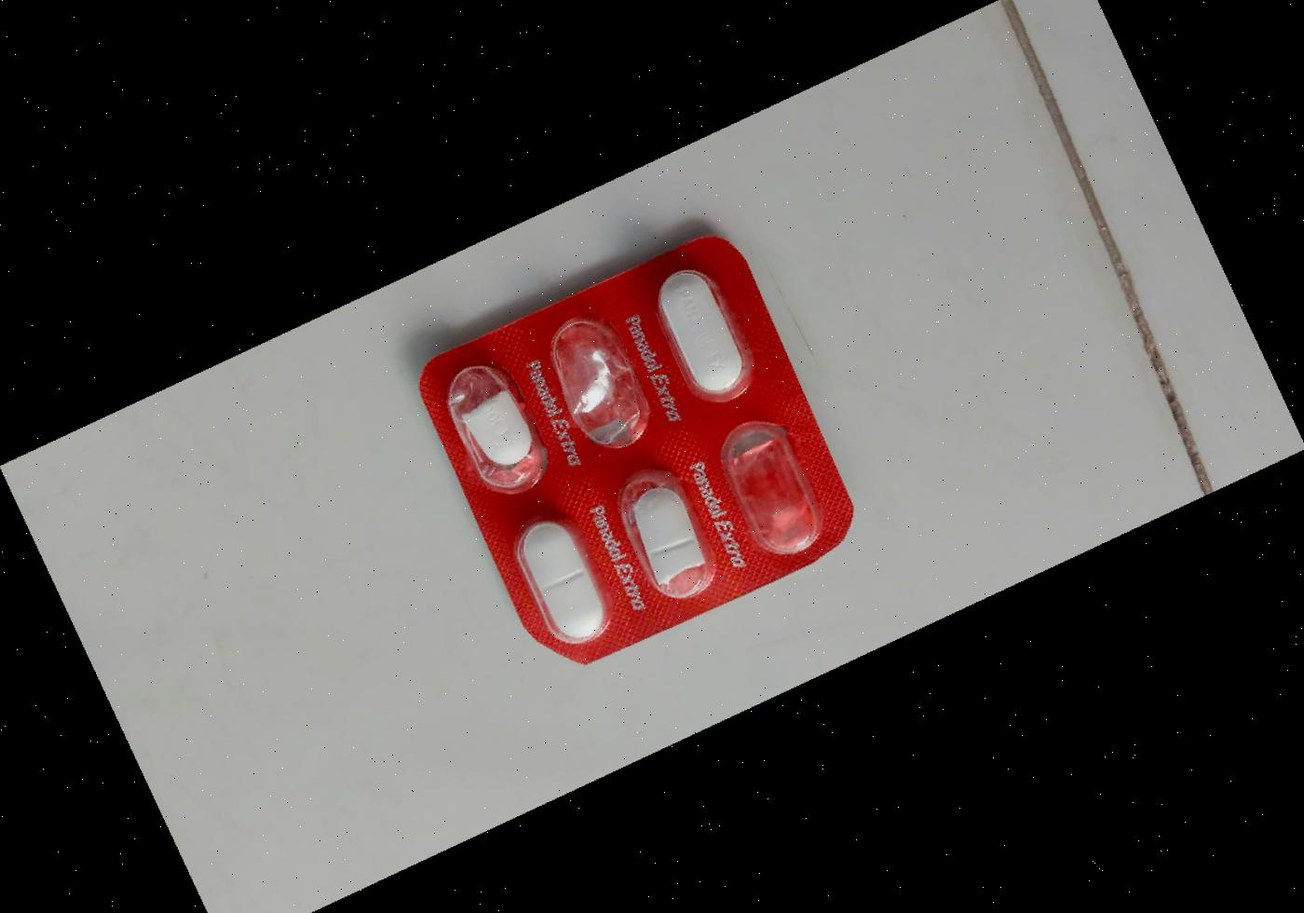Empty: (528, 297, 669, 464), (702, 404, 842, 570)
Full: (495, 493, 635, 660), (633, 251, 773, 417)
Partial: (427, 345, 567, 512), (600, 450, 740, 616)
